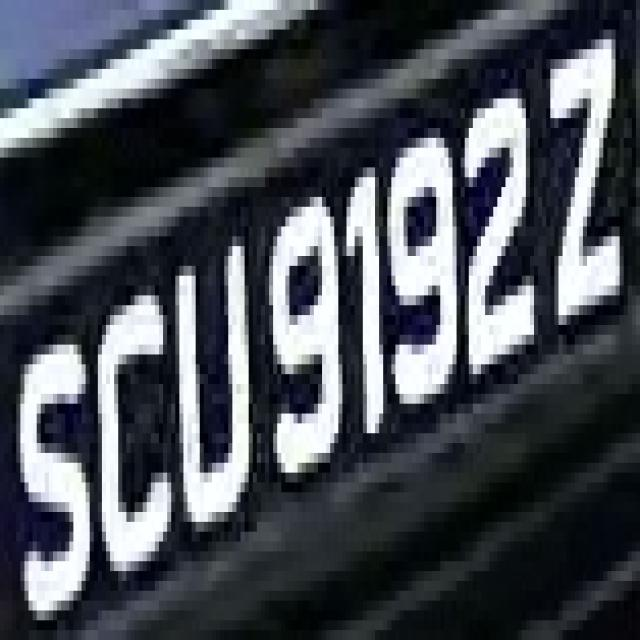1: (342, 148, 392, 472)
2: (461, 59, 542, 394)
9: (375, 108, 469, 453), (265, 177, 351, 473)
C: (81, 266, 188, 600)
S: (12, 305, 94, 630)
U: (167, 206, 253, 532)
Z: (542, 39, 632, 364)
